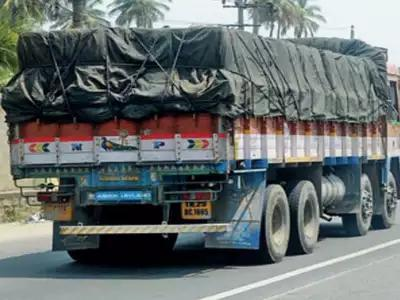truck: (13, 25, 400, 250)
